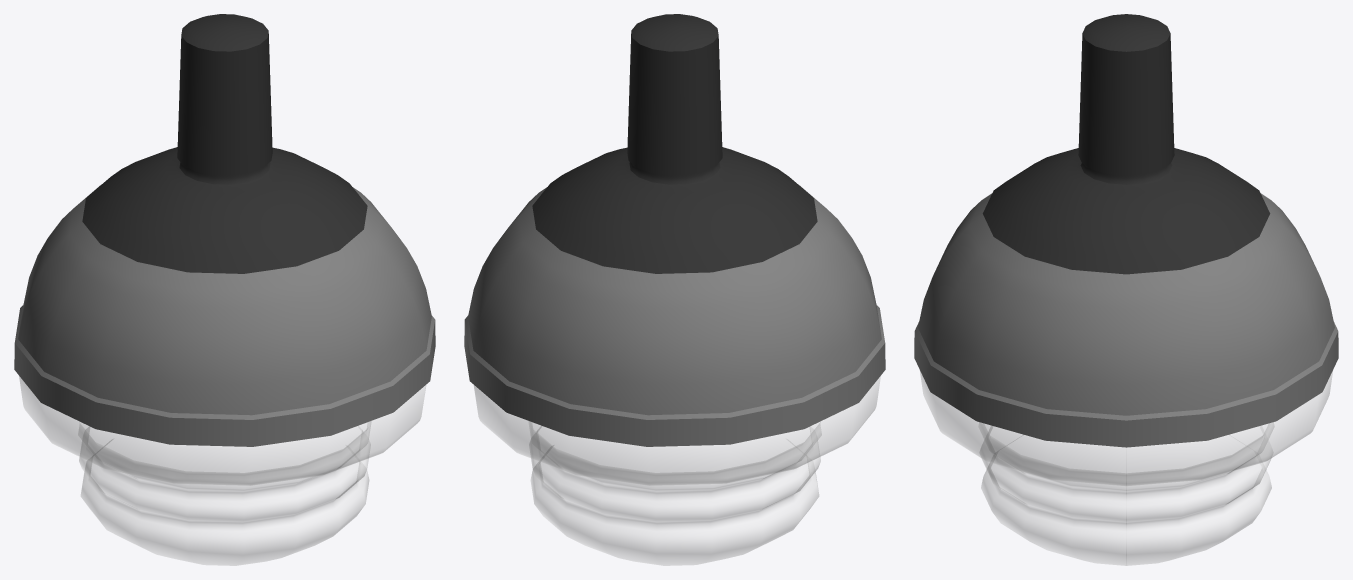
Rendered from Agora.glb.
3 renders of one model, left to right at view 1: azimuth 30°, elevation 25°; view 2: azimuth 150°, elevation 25°; view 3: azimuth 270°, elevation 25°, orthographic.
Visible parts, largest first — view 1: BezierCurve.002, Glas.001; view 2: BezierCurve.002, Glas.001; view 3: BezierCurve.002, Glas.001.
Part boxes in pixels (x1,y1,x2,y2): BezierCurve.002: (14, 14, 435, 446); Glas.001: (19, 376, 425, 565); BezierCurve.002: (464, 14, 885, 446); Glas.001: (474, 376, 880, 565); BezierCurve.002: (914, 14, 1338, 447); Glas.001: (920, 371, 1332, 565).
Size of the model in its own units: 0.45 by 0.6091 by 0.45.
Materials: 3 (2 with a texture image).
